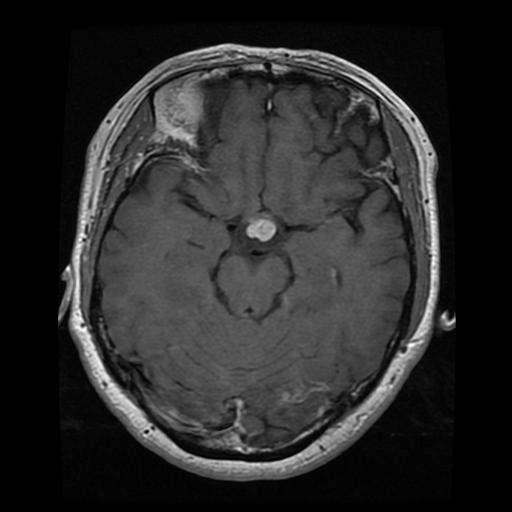Tumour-Pituitary: (238, 214, 287, 248)
